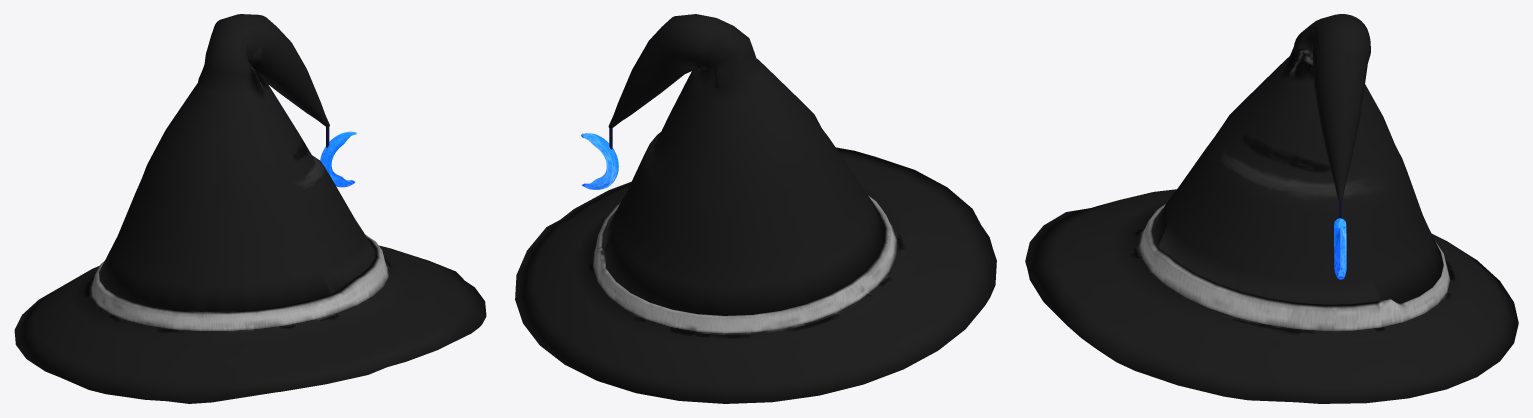
The model's file is W_Hat.glb.
3 views of the same model, side by side, from view 1: azimuth 30°, elevation 25°; view 2: azimuth 150°, elevation 25°; view 3: azimuth 270°, elevation 25° (orthographic). The views are drawn at different scales.
Parts seen in each view (by area): view 1: Cylinder.001; view 2: Cylinder.001; view 3: Cylinder.001.
Part boxes in pixels (bbox=[...]): Cylinder.001: bbox=[14, 14, 486, 403]; Cylinder.001: bbox=[515, 14, 996, 403]; Cylinder.001: bbox=[1025, 14, 1518, 403].
Size of the model in its own units: 0.4 by 0.2798 by 0.3971.
3 materials, 1 textured.
